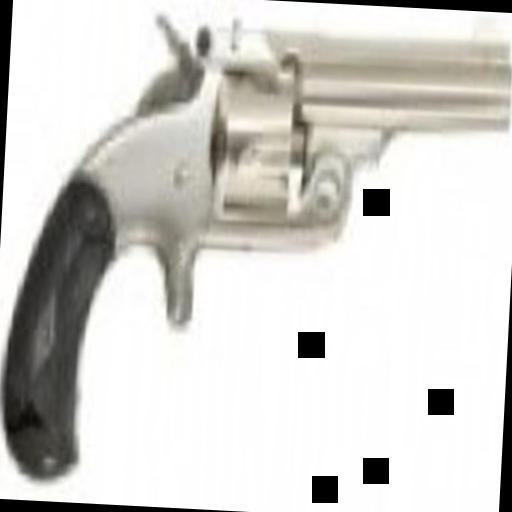Handgun: (3, 0, 507, 501)
